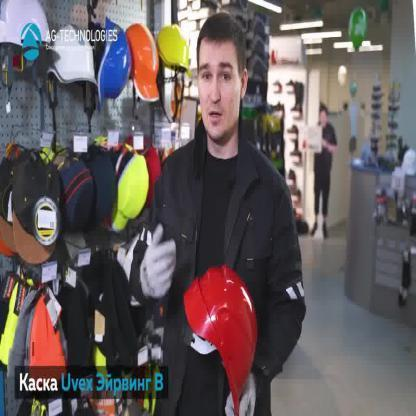gloves: (141, 221, 177, 302), (224, 370, 259, 415)
helmet: (182, 261, 260, 415), (95, 15, 132, 113), (48, 22, 100, 88), (125, 24, 162, 104), (0, 0, 56, 47), (154, 22, 192, 78)
